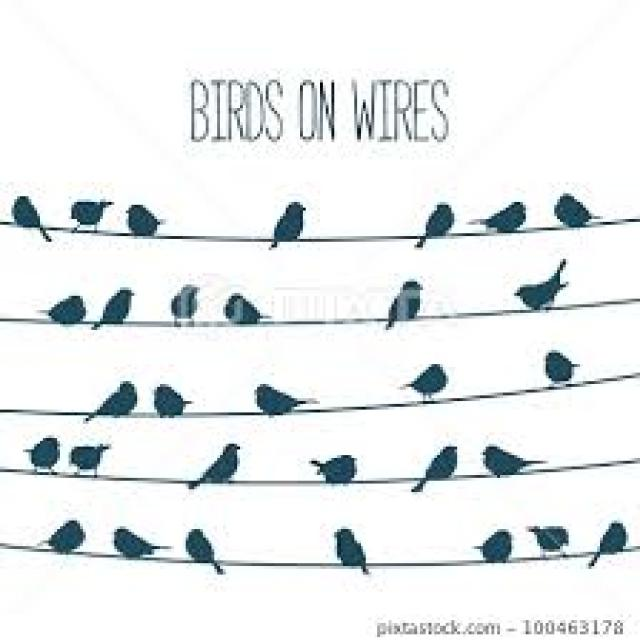bird: (481, 441, 542, 478), (467, 198, 526, 235), (588, 519, 630, 565), (111, 524, 162, 560), (417, 441, 460, 483), (42, 292, 89, 327), (43, 518, 86, 556), (269, 200, 307, 242), (97, 286, 135, 324), (421, 199, 456, 240), (10, 191, 42, 231)
